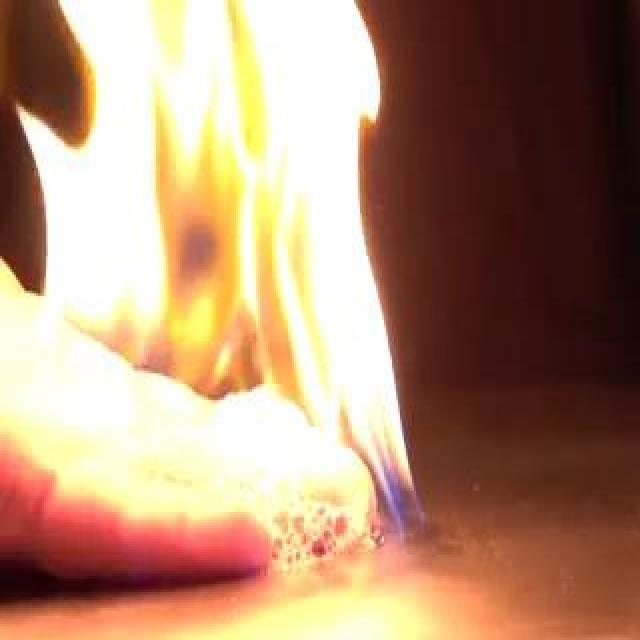Fire: (51, 2, 415, 530)
